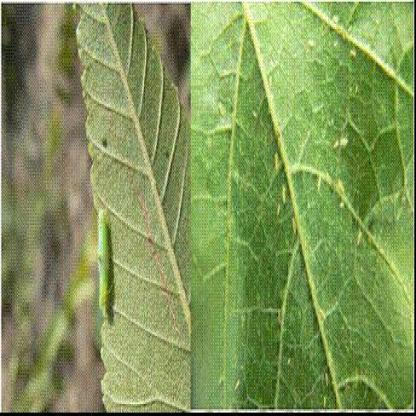Green-Leafhopper: (96, 205, 120, 326)
